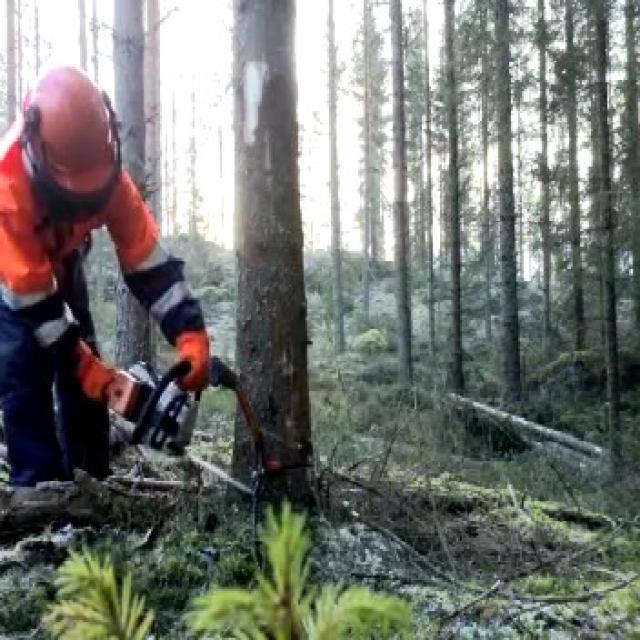Chainsaw: (95, 342, 268, 514)
